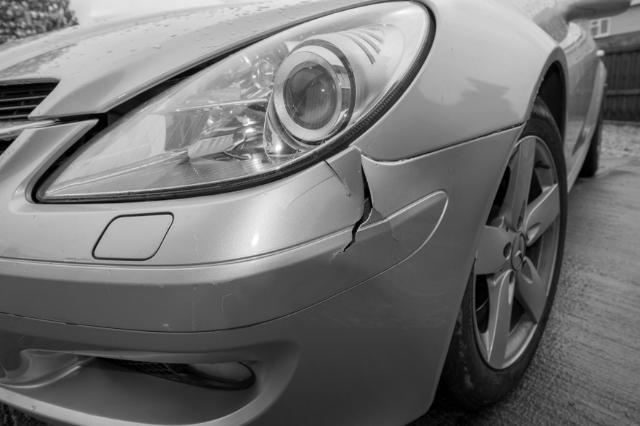Bumper: (300, 145, 384, 292)
